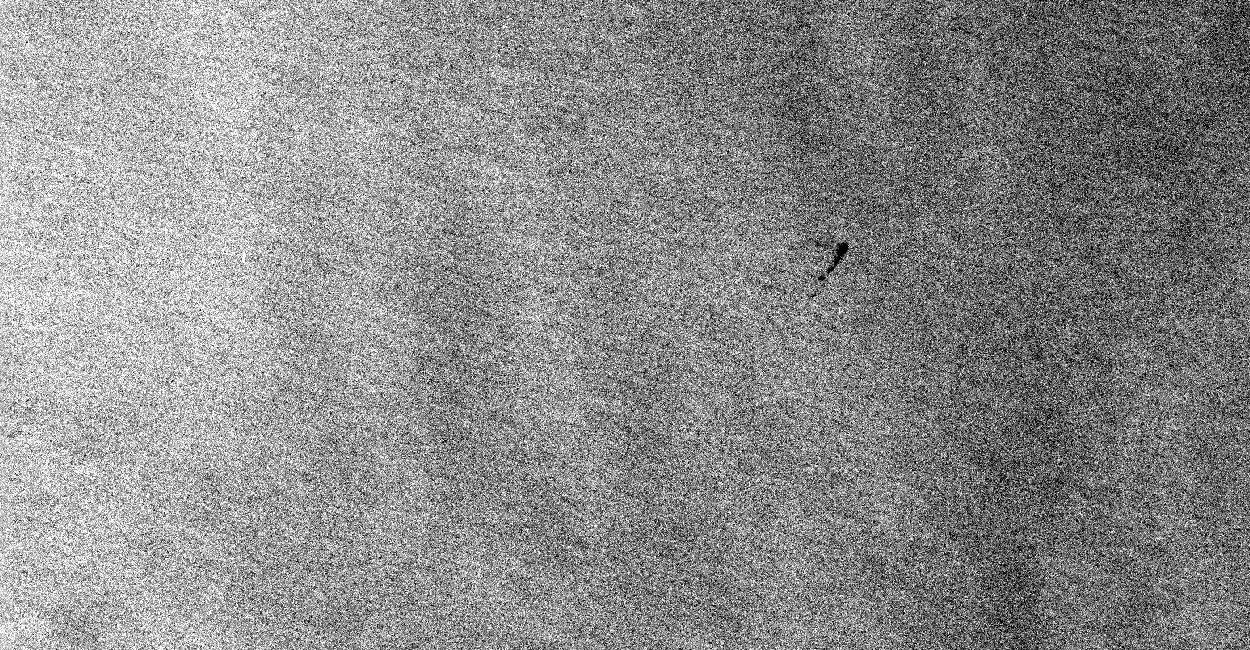Oil Spill: (826, 240, 850, 274), (816, 272, 826, 282)
